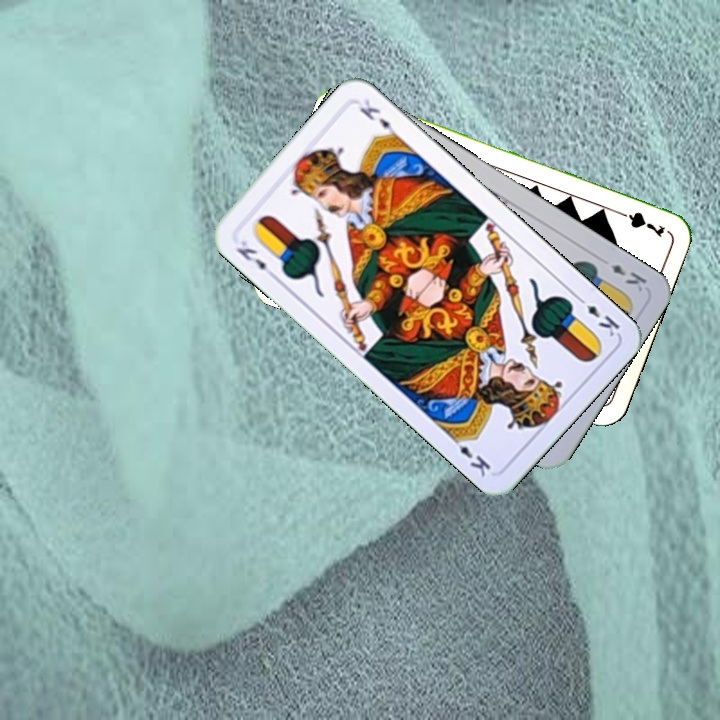EK: (572, 291, 622, 340), (232, 236, 279, 281), (606, 260, 650, 295)
G7: (610, 205, 668, 240)
